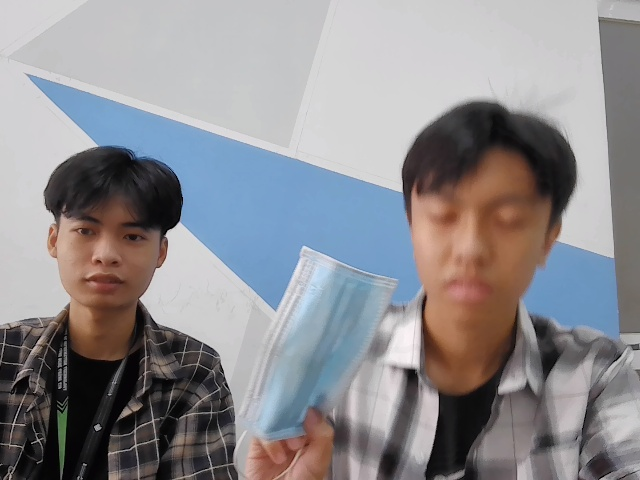human: (399, 103, 579, 312), (43, 147, 187, 310)
mask: (233, 245, 400, 451)
